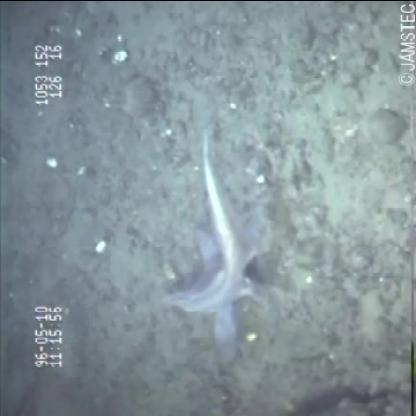Bio: (156, 97, 274, 367)
